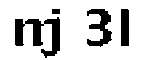3: (81, 7, 113, 49)
j: (44, 5, 69, 60)
l: (116, 3, 135, 48)
m: (13, 16, 56, 48)
